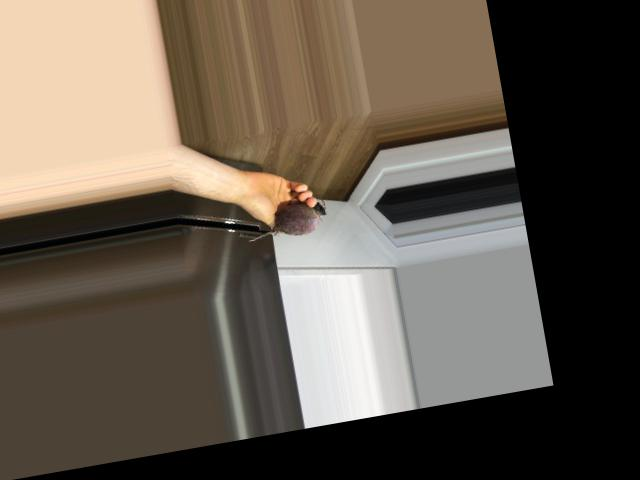beet: (244, 198, 330, 243)
